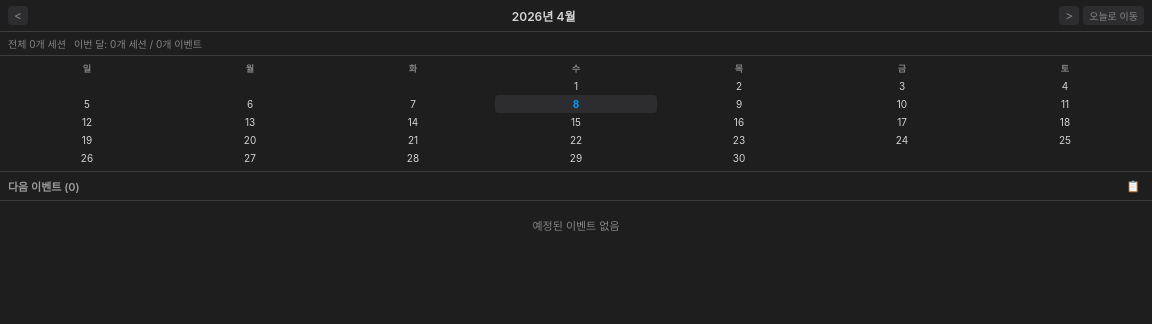
Test: CalendarPanel › 날짜 선택 후 이벤트를 추가할 수 있다
The width and height of the screenshot is (1152, 324).
Click the text "15".
click(576, 122)  # box [571,116,581,128]
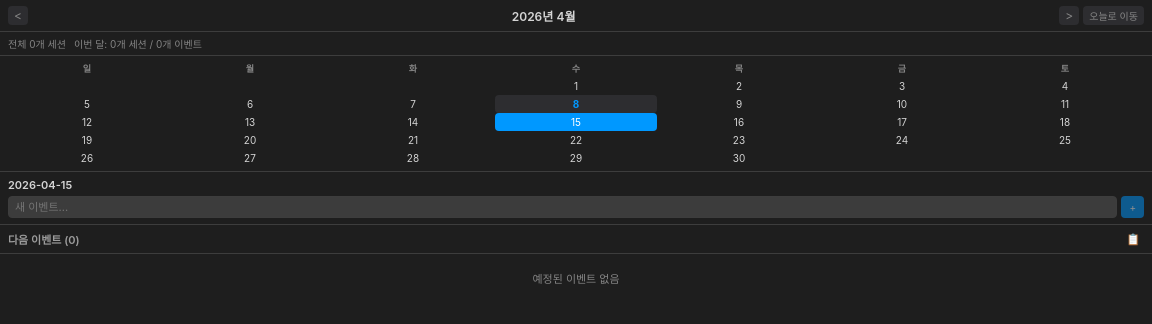
Type "팀 회의" into the field with placeholder "새 이벤트...".
click(563, 207); type("팀 회의")  # box [8,196,1117,218]
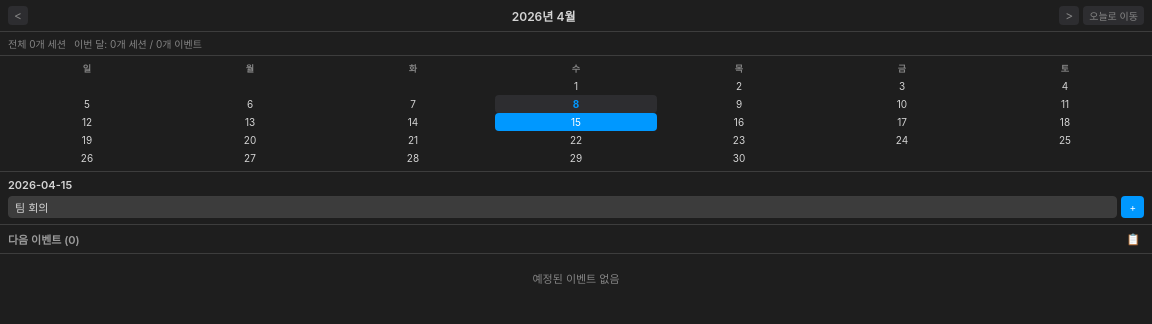
Click the button "+".
click(1133, 207)  # box [1121,196,1144,218]
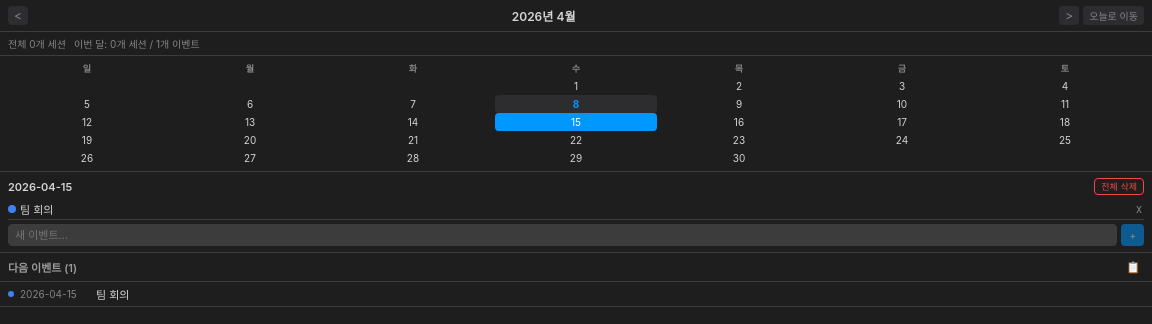
expect the text "팀 회의" is shown: met, box [20,203,54,217]
